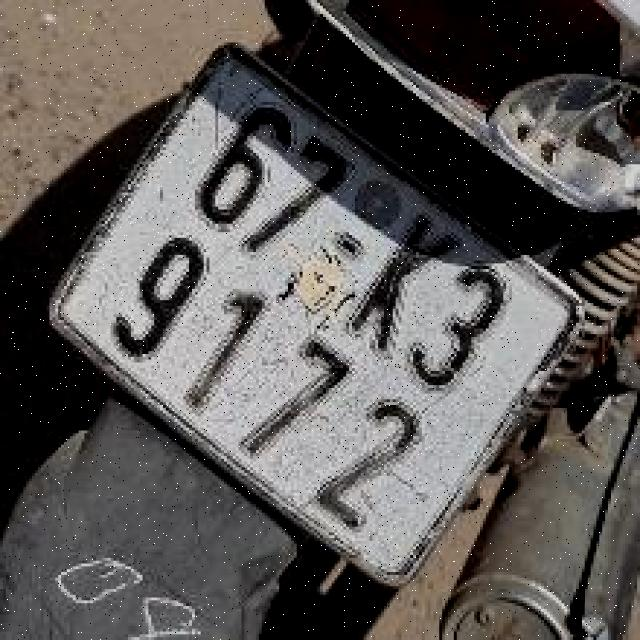1: (168, 269, 289, 427)
2: (302, 381, 442, 549)
3: (400, 241, 529, 409)
6: (182, 87, 317, 242)
7: (215, 317, 371, 473), (226, 115, 369, 274)
9: (106, 223, 220, 372)
K: (337, 198, 477, 370)
